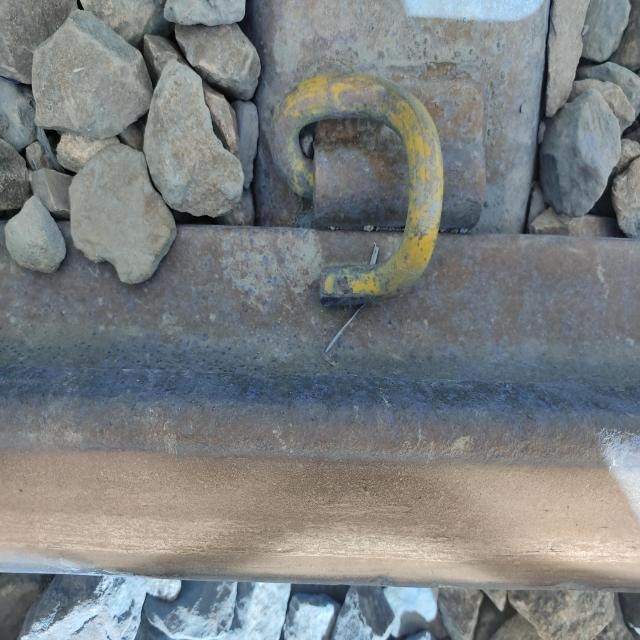Good Fasteners: (271, 73, 486, 304)
